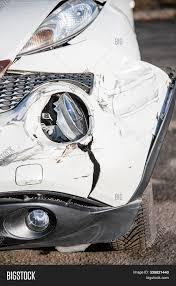front-bumper-dent: (0, 57, 168, 214)
